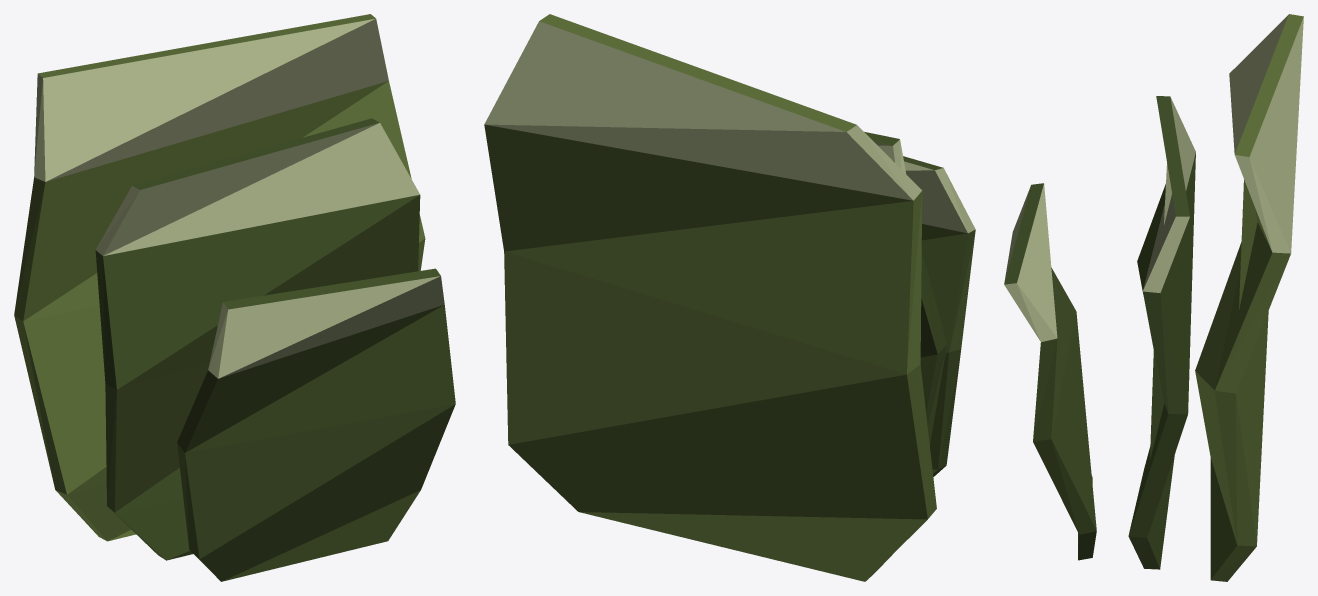
The model's file is dried_kelp.gltf.
The picture shows the model from 3 angles, left to right: view 1: azimuth 30°, elevation 25°; view 2: azimuth 150°, elevation 25°; view 3: azimuth 270°, elevation 25°; orthographic projection. The views are drawn at different scales.
Visible parts, largest first — view 1: dried_kelp; view 2: dried_kelp; view 3: dried_kelp.
Boxes of the visible parts, x1=… form: dried_kelp: x1=14, y1=14, x2=455, y2=581; dried_kelp: x1=484, y1=14, x2=975, y2=581; dried_kelp: x1=1004, y1=14, x2=1303, y2=581.
Bounding box in the file's own units: 0.1953 × 0.2171 × 0.1346.
